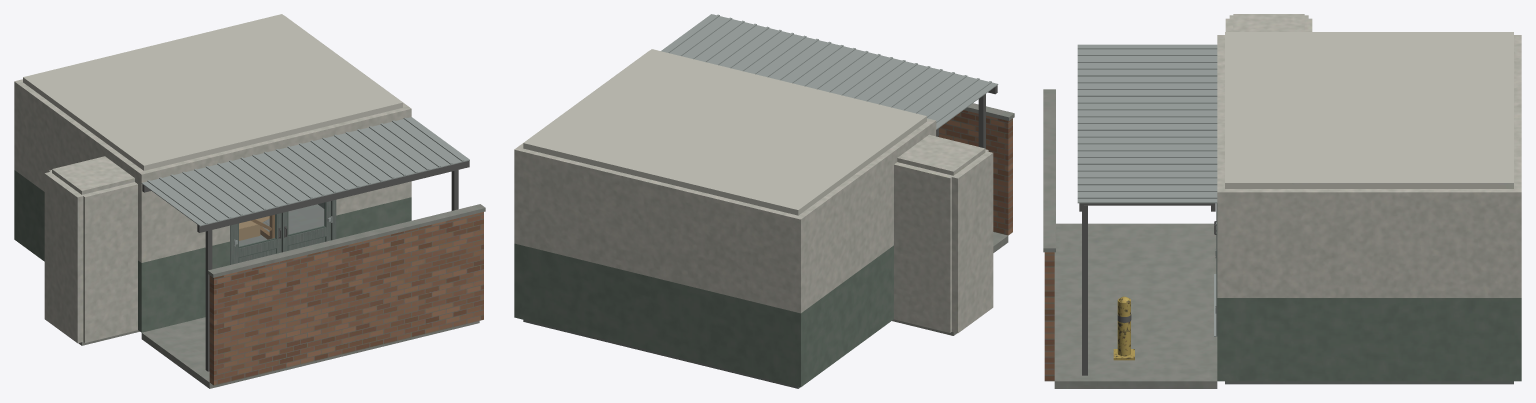
The picture shows the model from 3 angles, left to right: view 1: azimuth 30°, elevation 25°; view 2: azimuth 150°, elevation 25°; view 3: azimuth 270°, elevation 25°; orthographic projection. The views are drawn at different scales.
Visible parts, largest first — view 1: part/architecture_ceiling/slab, part/architecture_loading/opposite_brick_store, part/architecture_stock/stock_passage_returns, part/architecture_loading/canopy_roof, part/architecture_loading/masonry, part/architecture_stock/masonry, part/architecture_loading/lower_dado, part/architecture_loading/loading_apron, part/architecture_loading/canopy_structure, part/architecture_stock/lower_dado, part/architecture_loading/store_wall_coping, part/architecture_floor/slab (+6 smaller); view 2: part/architecture_ceiling/slab, part/architecture_back/masonry, part/architecture_back/lower_dado, part/architecture_stock/stock_passage_returns, part/architecture_loading/canopy_roof, part/architecture_stock/masonry, part/architecture_stock/lower_dado, part/architecture_loading/opposite_brick_store, part/architecture_floor/slab, part/architecture_right/masonry, part/architecture_loading/canopy_structure, part/architecture_right/lower_dado; view 3: part/architecture_ceiling/slab, part/architecture_right/masonry, part/architecture_right/lower_dado, part/architecture_loading/loading_apron, part/architecture_loading/canopy_roof, part/architecture_loading/store_wall_coping, part/architecture_stock/stock_passage_returns, part/architecture_loading/canopy_structure, part/architecture_loading/opposite_brick_store, part/architecture_back/masonry, part/architecture_loading/masonry, part/architecture_floor/slab (+1 smaller).
Boxes of the visible parts, x1,y1,x2,y2 form: part/architecture_ceiling/slab: (23, 14, 402, 170); part/architecture_loading/opposite_brick_store: (209, 212, 483, 385); part/architecture_stock/stock_passage_returns: (44, 156, 137, 343); part/architecture_loading/canopy_roof: (141, 117, 469, 226); part/architecture_loading/masonry: (144, 108, 406, 261); part/architecture_stock/masonry: (14, 80, 147, 262); part/architecture_loading/lower_dado: (147, 198, 406, 331); part/architecture_loading/loading_apron: (141, 317, 479, 388); part/architecture_loading/canopy_structure: (142, 160, 469, 371); part/architecture_stock/lower_dado: (14, 170, 147, 332); part/architecture_loading/store_wall_coping: (208, 204, 485, 277); part/architecture_floor/slab: (239, 204, 324, 246); part/architecture_ceiling/slab: (523, 49, 926, 215); part/architecture_back/masonry: (520, 148, 797, 311); part/architecture_back/lower_dado: (520, 245, 794, 385); part/architecture_stock/stock_passage_returns: (894, 134, 993, 333); part/architecture_loading/canopy_roof: (661, 14, 998, 129); part/architecture_stock/masonry: (795, 119, 936, 313); part/architecture_stock/lower_dado: (795, 245, 893, 387); part/architecture_loading/opposite_brick_store: (938, 110, 1012, 235); part/architecture_floor/slab: (523, 320, 799, 388); part/architecture_right/masonry: (514, 50, 649, 244); part/architecture_loading/canopy_structure: (936, 85, 997, 149); part/architecture_right/lower_dado: (514, 243, 519, 318); part/architecture_ceiling/slab: (1225, 32, 1513, 188); part/architecture_right/masonry: (1217, 189, 1521, 297); part/architecture_right/lower_dado: (1217, 298, 1521, 381); part/architecture_loading/loading_apron: (1054, 223, 1217, 388); part/architecture_loading/canopy_roof: (1077, 44, 1217, 203); part/architecture_loading/store_wall_coping: (1043, 89, 1055, 252); part/architecture_stock/stock_passage_returns: (1225, 14, 1312, 31); part/architecture_loading/canopy_structure: (1079, 203, 1215, 375); part/architecture_loading/opposite_brick_store: (1044, 252, 1054, 381); part/architecture_back/masonry: (1514, 38, 1521, 188); part/architecture_loading/masonry: (1217, 38, 1224, 188); part/architecture_floor/slab: (1225, 381, 1513, 384).
Size of the model in its own units: 5.36 by 2.63 by 5.63.
Materials: 163 (155 with a texture image).
